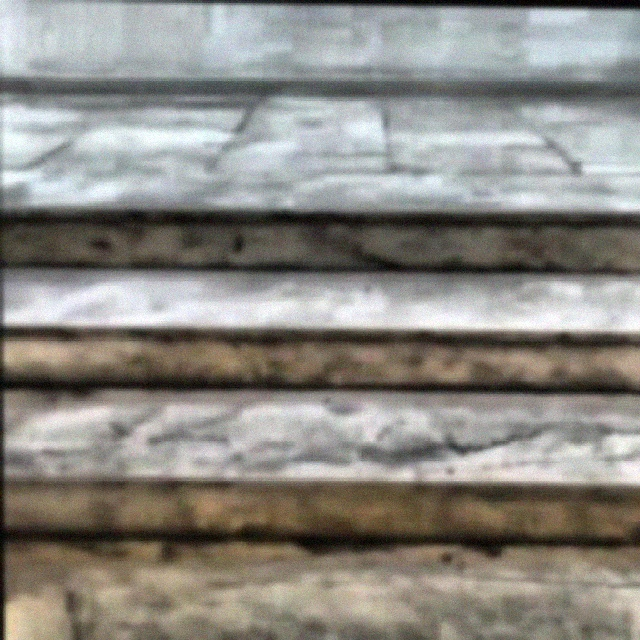stair: (0, 196, 638, 638)
